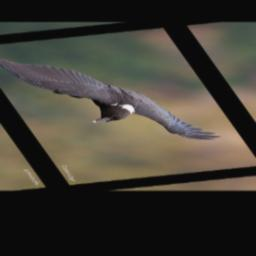Crow: (0, 37, 224, 156)
